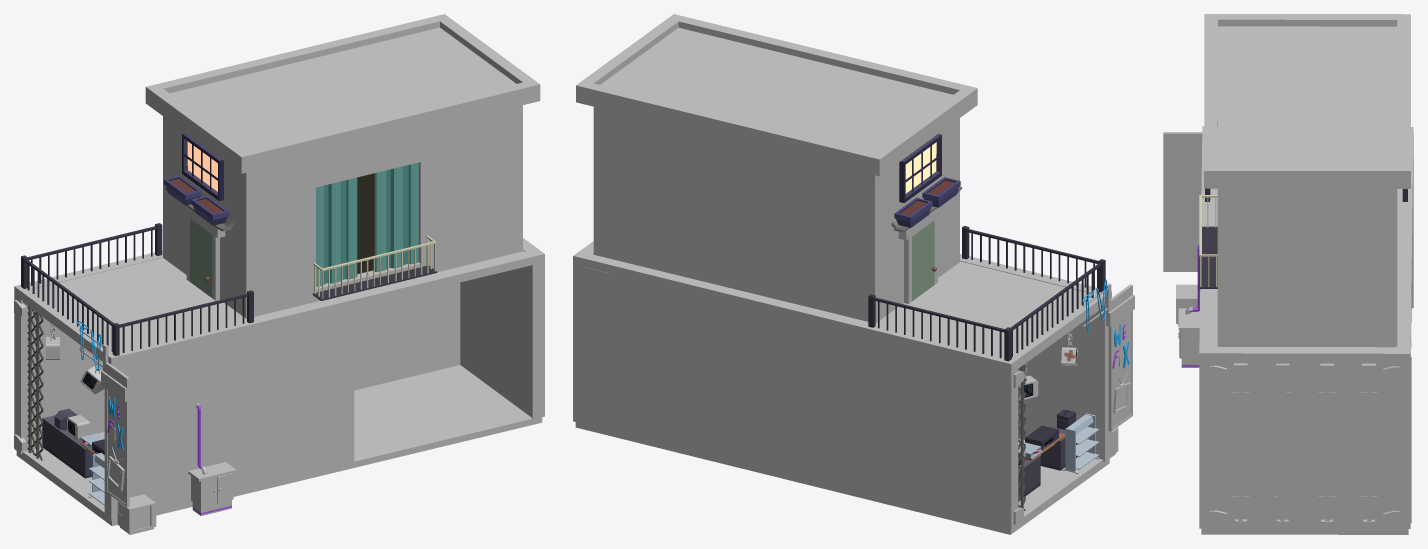
The model's file is DBTVRepair.fbx.
The picture shows the model from 3 angles, left to right: view 1: azimuth 30°, elevation 25°; view 2: azimuth 150°, elevation 25°; view 3: azimuth 270°, elevation 25°; orthographic projection. The views are drawn at different scales.
Visible parts, largest first — view 1: BoxCrate.164, BoxCrate.245, Balconet.013, Balconet.014, FixitSign.001, JuiceCage.006, BalconyRailing.084, ExpandingCage.004, Window.197, BalconyRailing.094, BalconyRailing.093, ShopCounter.008 (+7 smaller); view 2: BoxCrate.164, BoxCrate.245, FixitSign.001, BalconyRailing.084, Window.197, BalconyRailing.093, BalconyRailing.094, Cube.102, CornerHome_Door.052, CornerHome_DoorFrame.077, ExpandingCage.004, FlowerPot (+2 smaller); view 3: BoxCrate.245, BoxCrate.164, FixitSign.001, JuiceCage.006, JuiceBox.003, TV.
Boxes of the visible parts, <box> form: BoxCrate.164: <box>14,238,544,526</box>; BoxCrate.245: <box>145,14,540,318</box>; Balconet.013: <box>374,162,418,272</box>; Balconet.014: <box>316,177,357,286</box>; FixitSign.001: <box>79,329,129,506</box>; JuiceCage.006: <box>312,235,437,300</box>; BalconyRailing.084: <box>21,255,119,355</box>; ExpandingCage.004: <box>27,306,43,460</box>; Window.197: <box>182,133,223,201</box>; BalconyRailing.094: <box>119,290,253,352</box>; BalconyRailing.093: <box>28,223,162,285</box>; ShopCounter.008: <box>42,415,92,478</box>; BoxCrate.164: <box>573,241,1111,534</box>; BoxCrate.245: <box>576,14,977,322</box>; FixitSign.001: <box>1083,283,1134,431</box>; BalconyRailing.084: <box>1004,259,1105,361</box>; Window.197: <box>899,133,941,203</box>; BalconyRailing.093: <box>868,294,1004,358</box>; BalconyRailing.094: <box>962,226,1098,289</box>; Cube.102: <box>1062,413,1099,473</box>; CornerHome_Door.052: <box>912,220,936,301</box>; CornerHome_DoorFrame.077: <box>898,202,946,303</box>; ExpandingCage.004: <box>1018,365,1025,510</box>; FlowerPot: <box>894,197,932,227</box>; BoxCrate.245: <box>1204,14,1410,347</box>; BoxCrate.164: <box>1199,126,1413,534</box>; FixitSign.001: <box>1163,132,1202,271</box>; JuiceCage.006: <box>1199,195,1217,288</box>; JuiceBox.003: <box>1178,308,1199,367</box>; TV: <box>1176,284,1197,325</box>.
Bounding box in the file's own units: 2466 × 1816 × 1129.
